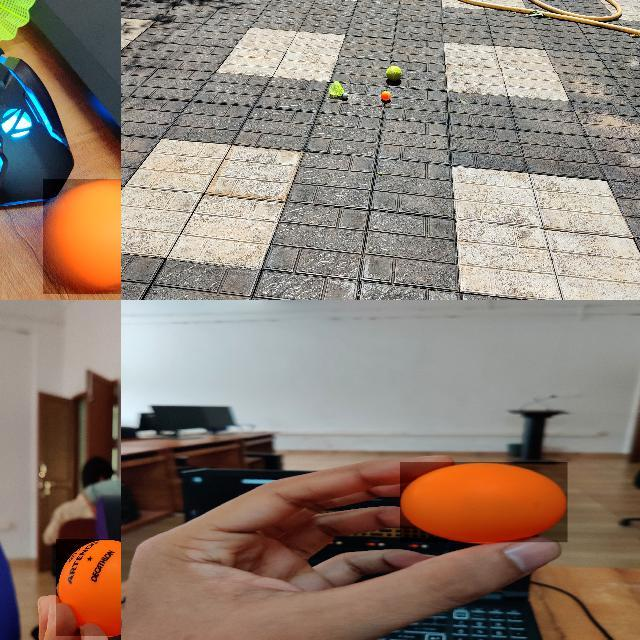ping-pong-ball: (401, 462, 568, 543), (43, 179, 120, 296), (56, 539, 120, 638), (381, 90, 389, 100)
